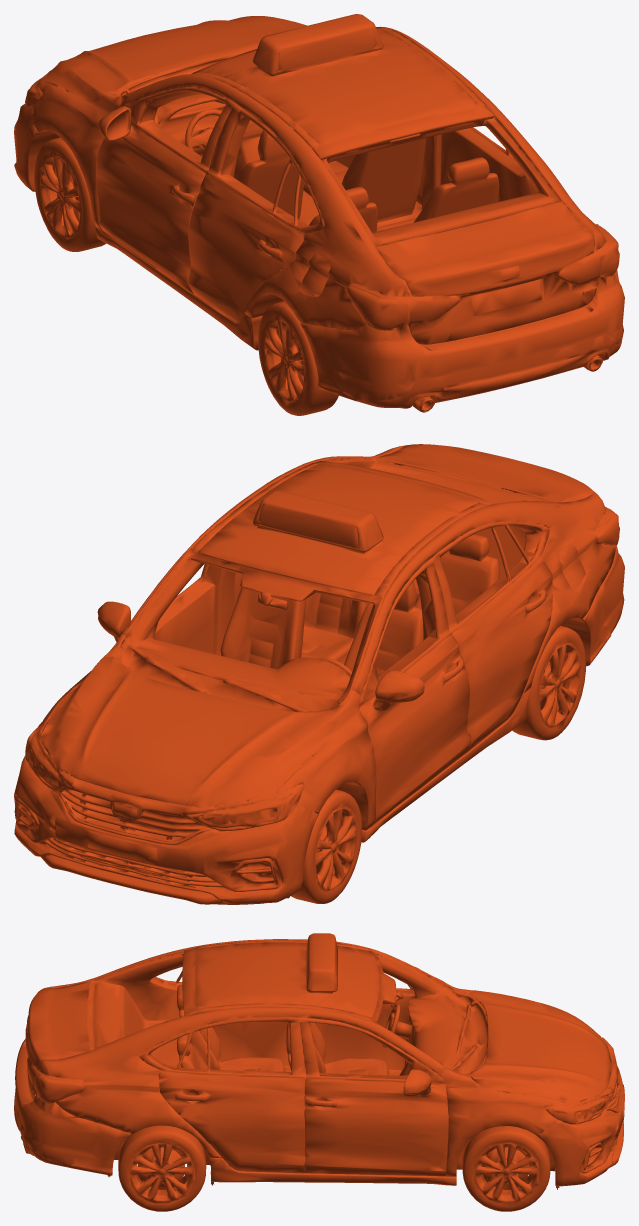
File: gen-taxi-sedan-1.glb
The picture shows the model from 3 angles, top to bottom: view 1: azimuth 30°, elevation 25°; view 2: azimuth 150°, elevation 25°; view 3: azimuth 270°, elevation 25°; orthographic projection. The views are drawn at different scales.
Visible parts, largest first — view 1: gen-taxi-sedan-1_part1; view 2: gen-taxi-sedan-1_part1; view 3: gen-taxi-sedan-1_part1.
Boxes of the visible parts, left/top/right/bottom form: gen-taxi-sedan-1_part1: left=14, top=14, right=624, bottom=415; gen-taxi-sedan-1_part1: left=14, top=444, right=624, bottom=904; gen-taxi-sedan-1_part1: left=14, top=933, right=624, bottom=1211.
Size of the model in its own units: 2194 by 1790 by 4698.
